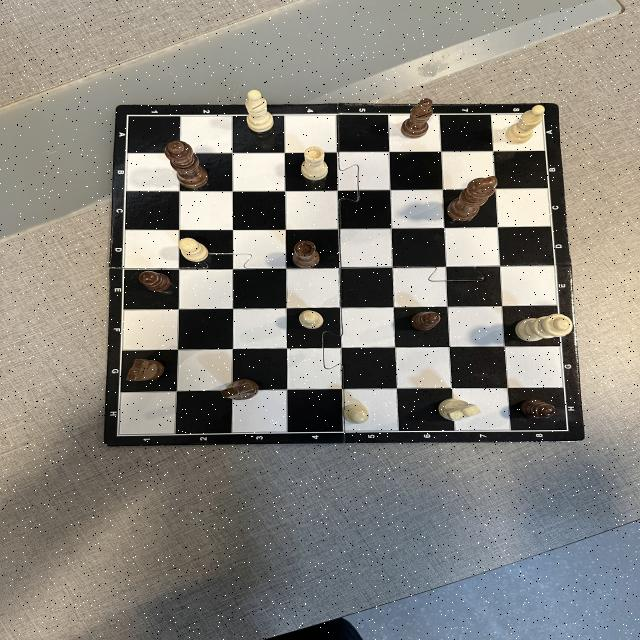Black-Bishop: (401, 98, 434, 140)
Black-King: (447, 176, 497, 222)
Black-Knight: (221, 378, 259, 401)
Black-Pawn: (520, 399, 556, 419), (139, 270, 171, 292), (410, 311, 440, 331)
Black-Queen: (164, 140, 208, 188)
Black-Rook: (292, 240, 320, 268)
White-Bishop: (506, 104, 546, 144), (244, 90, 274, 133)
White-Knight: (438, 398, 481, 422)
White-Pawn: (178, 238, 209, 262), (342, 404, 370, 424), (299, 310, 324, 329)
White-Queen: (514, 314, 572, 342)
White-Rook: (301, 147, 329, 180)
